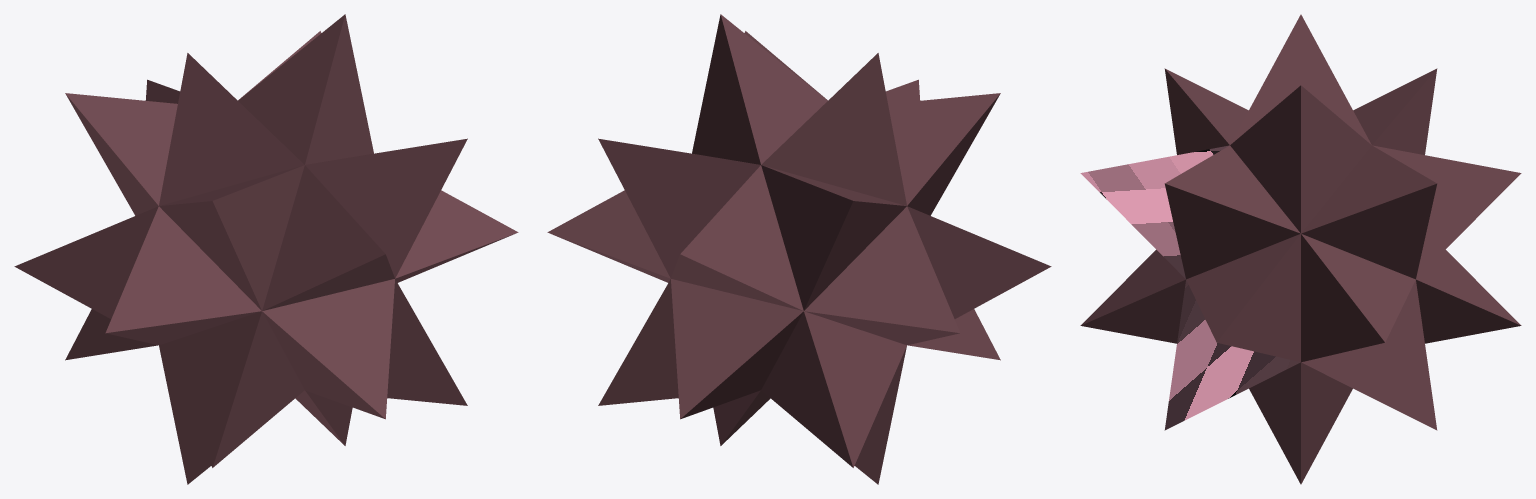
The model's file is barrel.glb.
3 views of the same model, side by side, from view 1: azimuth 30°, elevation 25°; view 2: azimuth 150°, elevation 25°; view 3: azimuth 270°, elevation 25° (orthographic). The views are drawn at different scales.
Parts seen in each view (by area): view 1: node_id5; view 2: node_id5; view 3: node_id5.
Boxes of the visible parts, x1,y1,x2,y2 form: node_id5: (14,14,518,484); node_id5: (547,14,1051,484); node_id5: (1080,14,1521,484).
Size of the model in its own units: 0.512 by 0.512 by 0.512.
1 material, 1 textured.
